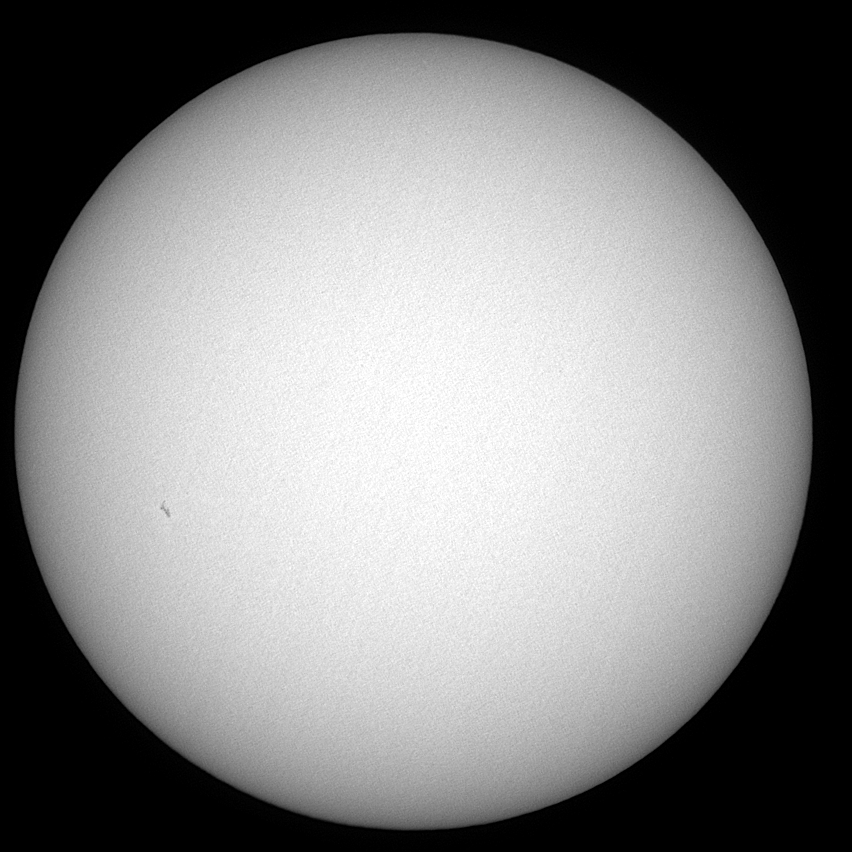sunspot: (157, 496, 177, 521)
